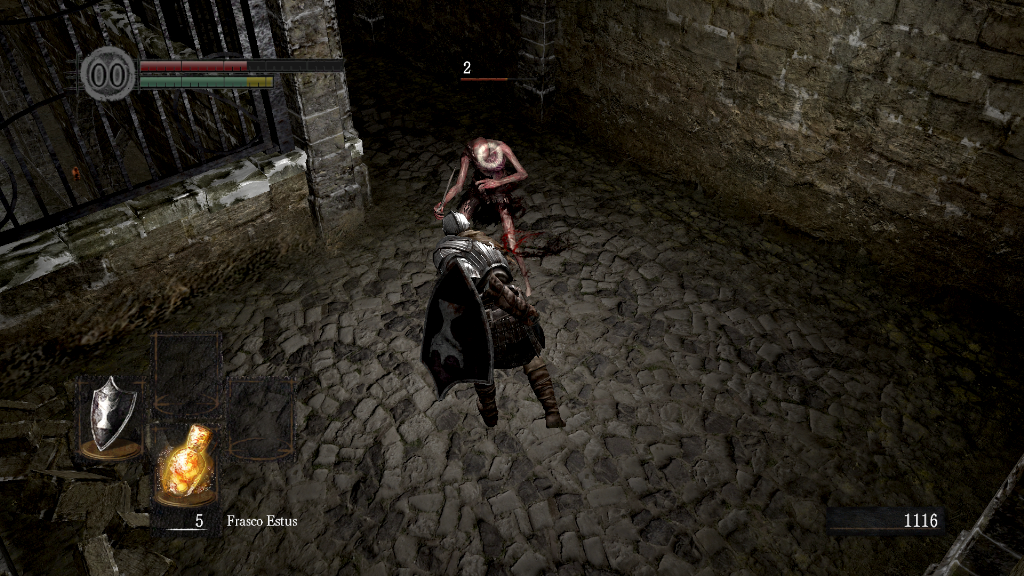health: (138, 58, 343, 71)
hollow: (432, 134, 538, 298)
humanity: (80, 45, 136, 102)
player: (417, 209, 570, 432)
souls: (825, 506, 945, 536)
stamina: (138, 74, 274, 88)
